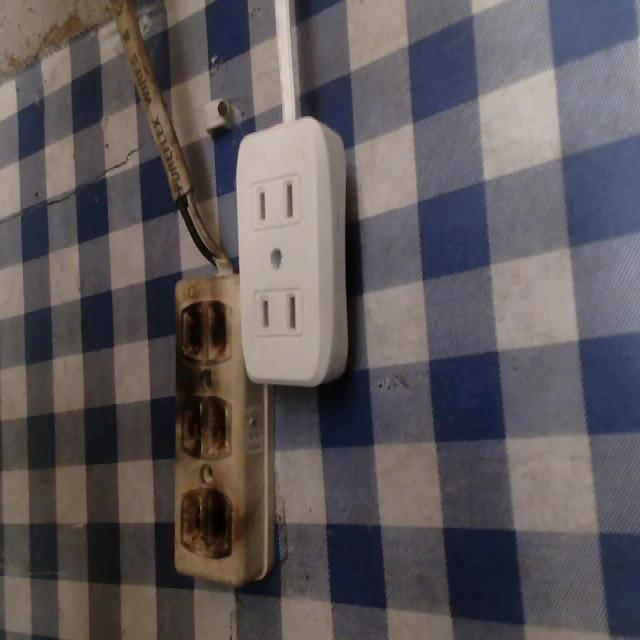-: (176, 485, 235, 559), (177, 297, 236, 363), (175, 392, 233, 456)
